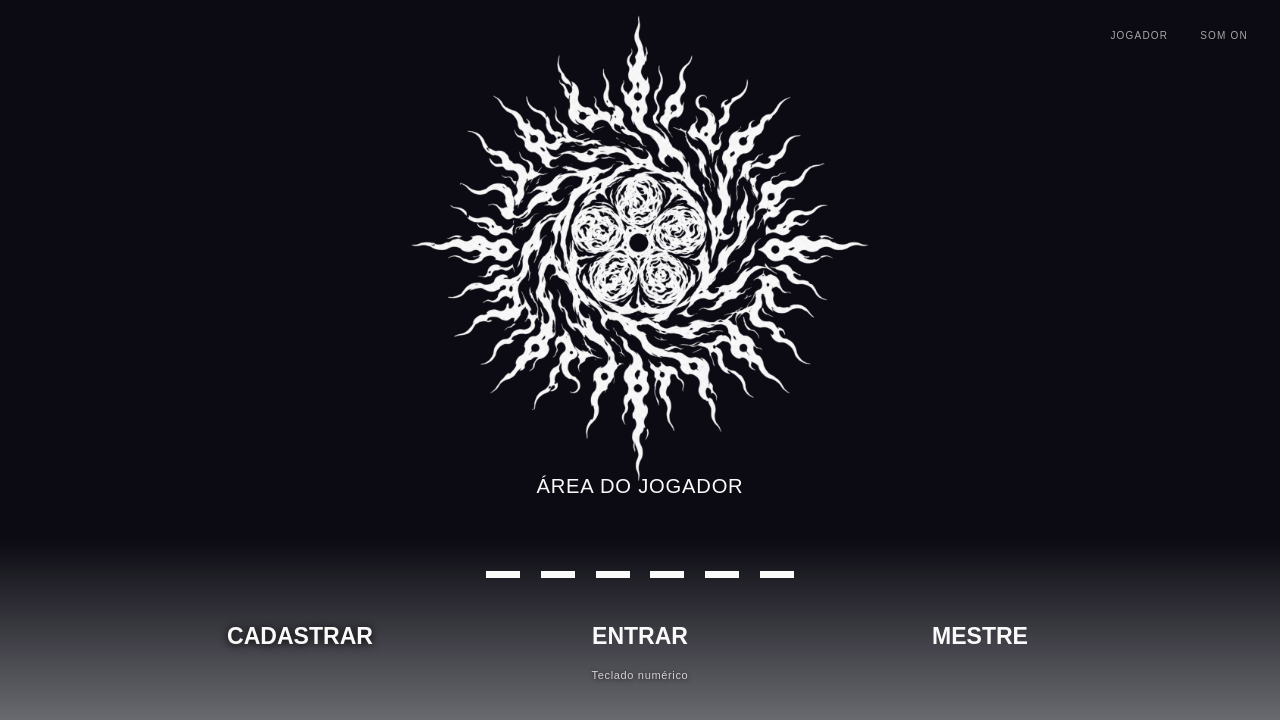
Test case: falha de acesso não anima sucesso nem redireciona
Type "1234" into the password field named "Senha do jogador". click: (640, 555)
box: [486,533,794,578]
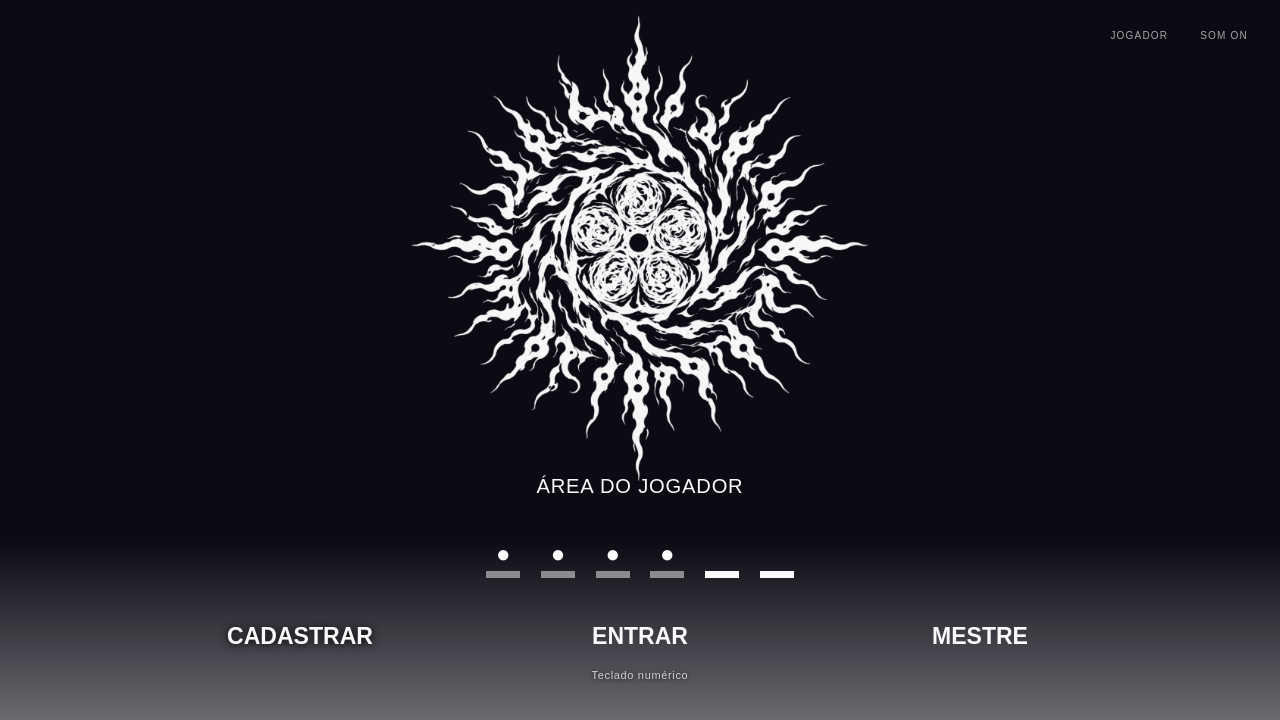
Click the button "ENTRAR". click: (640, 637)
box: [563,613,717,661]
Wait 2600 ms
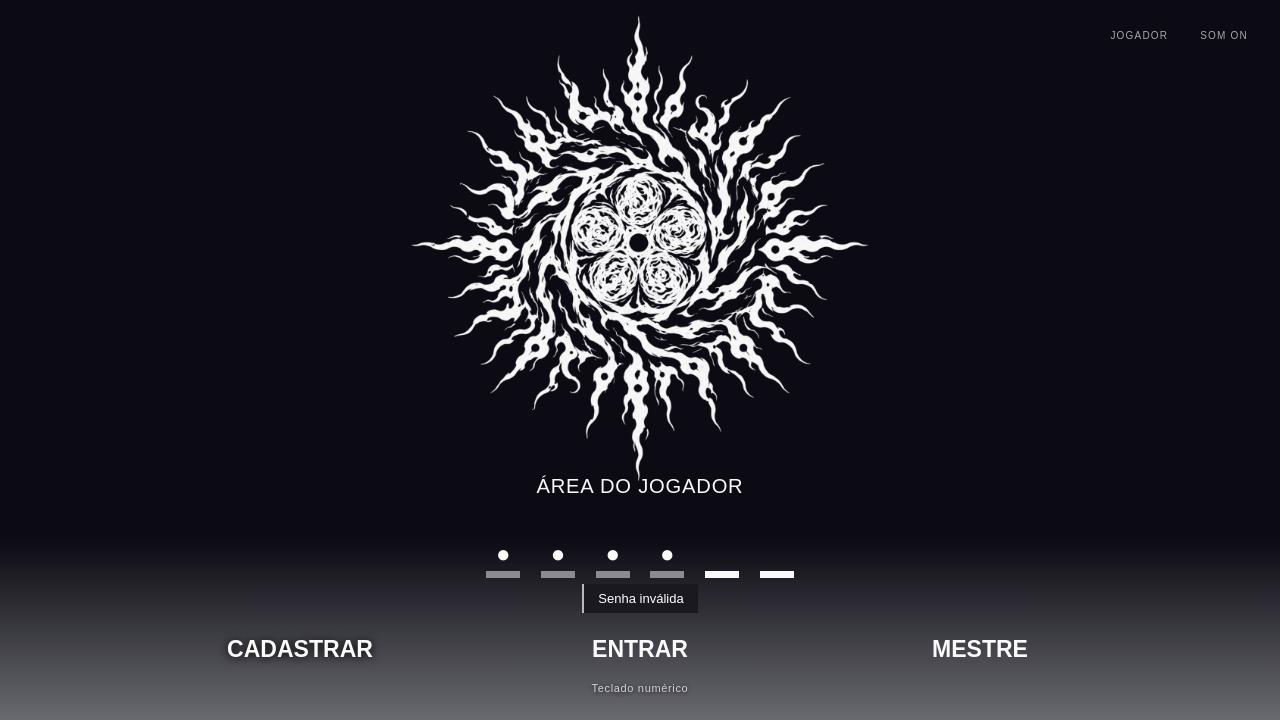
Now the message reads "Senha inválida", box [598,591,684,606]
